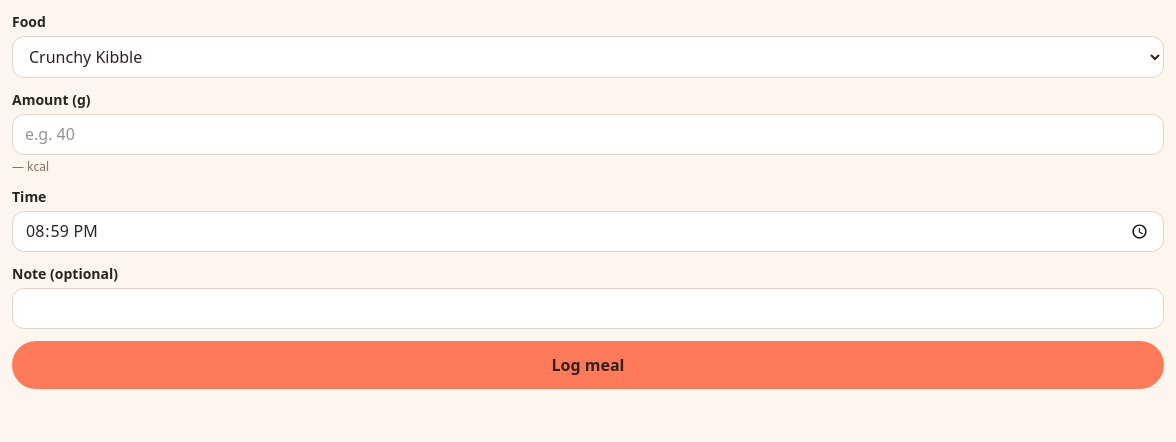
Scenario: LogMealForm › blocks submit with a message when grams is 0
Step 1. Type "0" into the field with test id "meal-grams" → (588, 134), box [12, 114, 1164, 155]
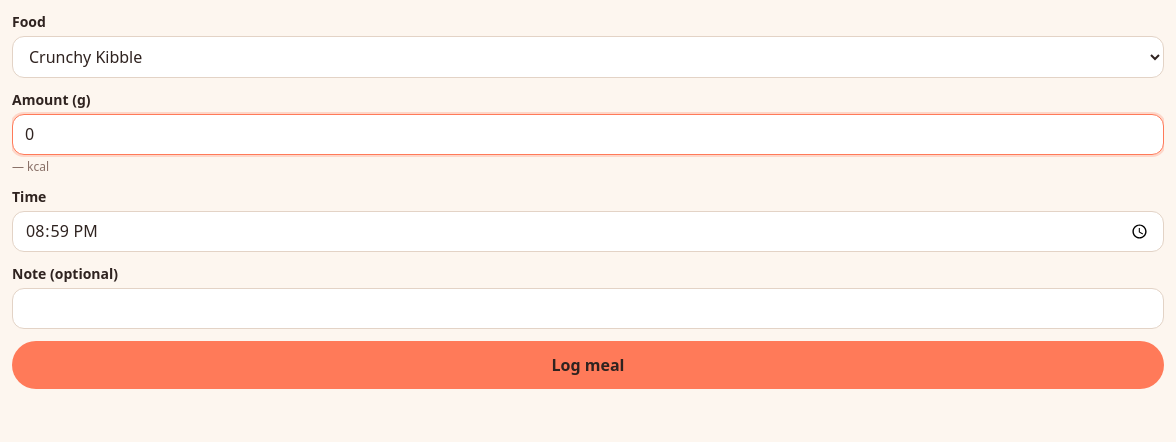
Expected: the text with test id "meal-kcal-preview" reads "— kcal", [12, 158, 49, 175]
Step 2. Click the button with test id "meal-save" → (588, 364), box [12, 340, 1164, 388]
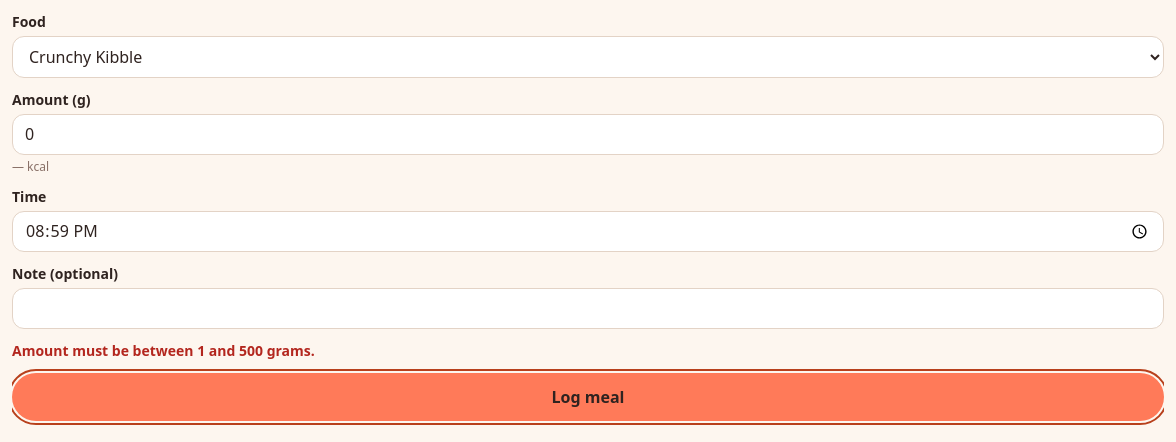
Now the message reads "Amount must be between 1 and 500 grams.", box [12, 340, 315, 360]
